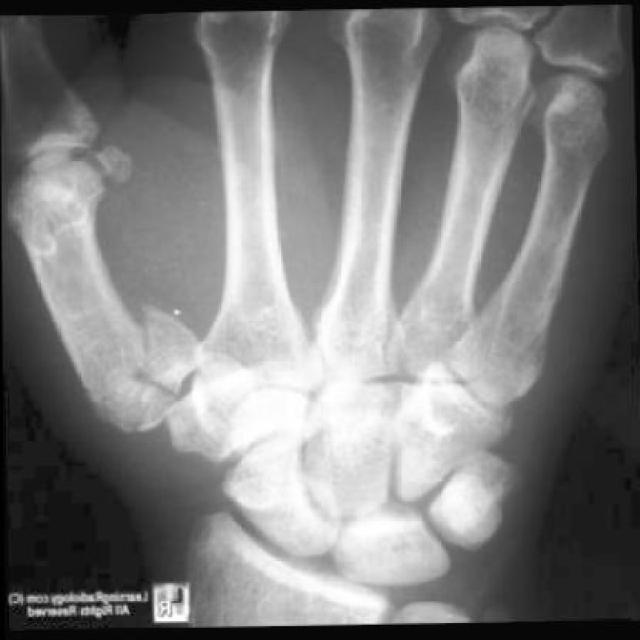Fracture: (116, 296, 223, 427)
